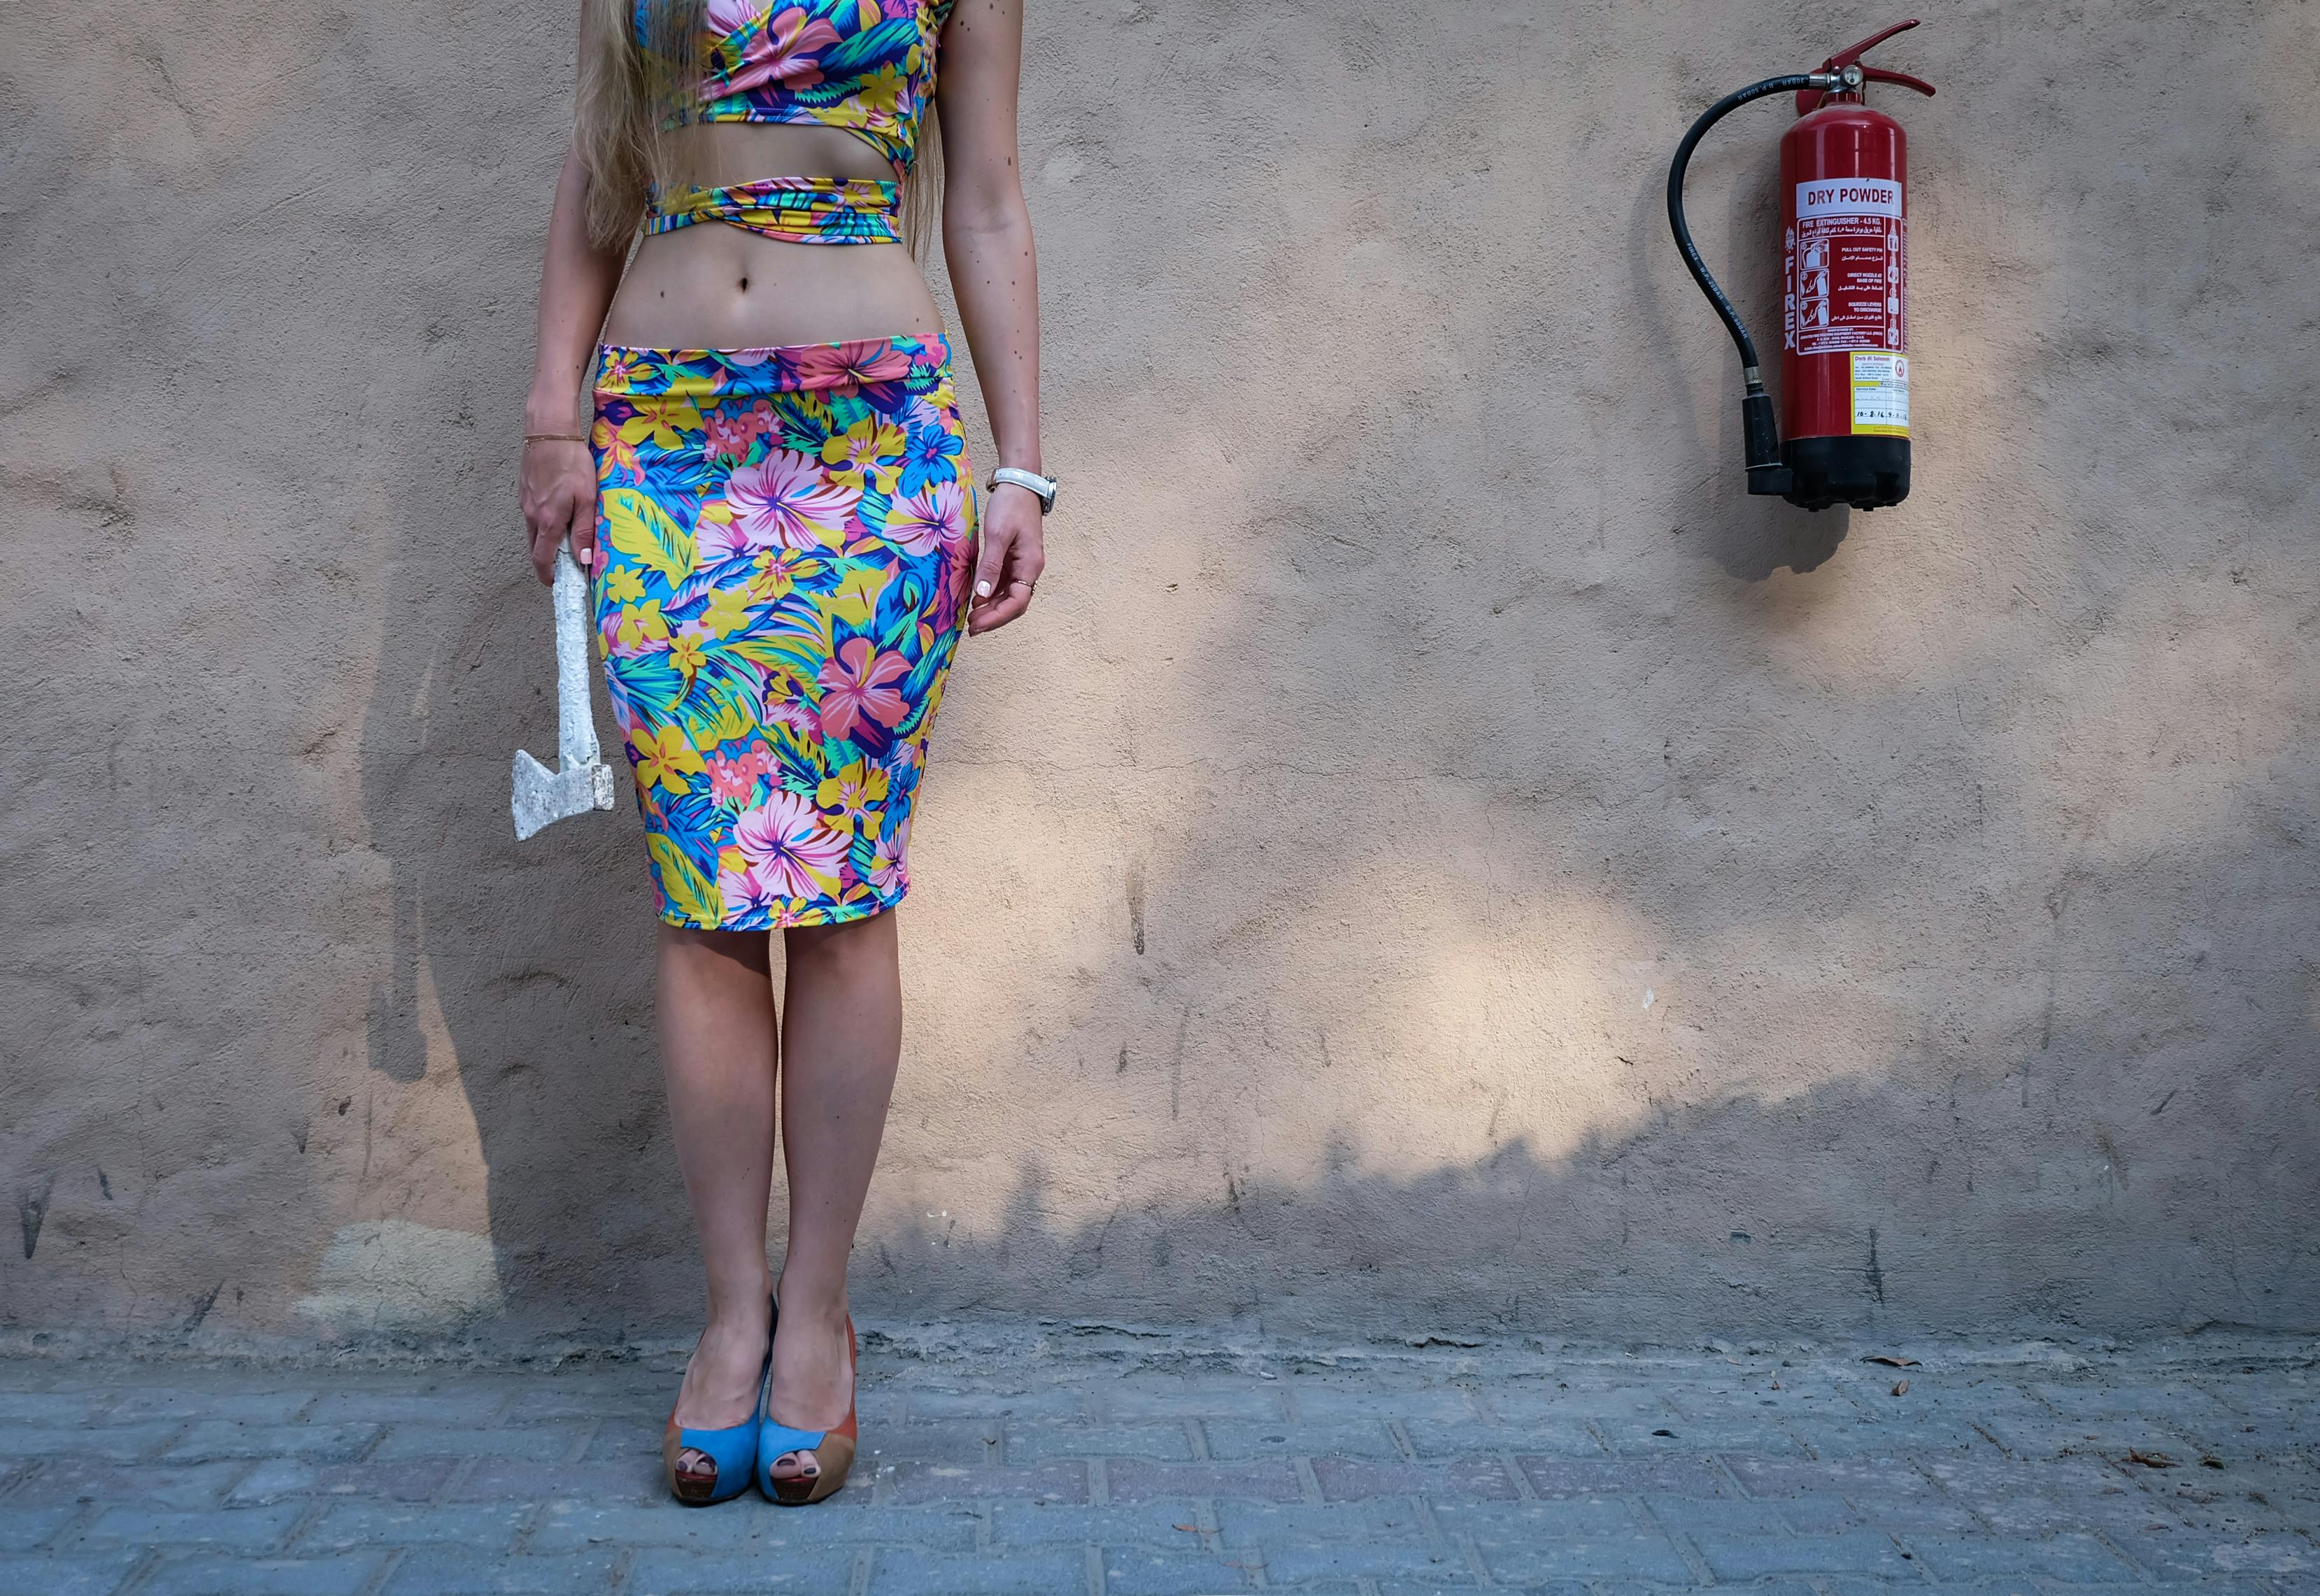extintor: (1652, 4, 1955, 533)
